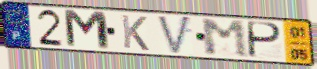2: (35, 9, 64, 48)
K: (120, 13, 151, 53)
M: (62, 8, 114, 52), (199, 18, 251, 59)
P: (247, 20, 284, 60)
V: (155, 14, 193, 57)
